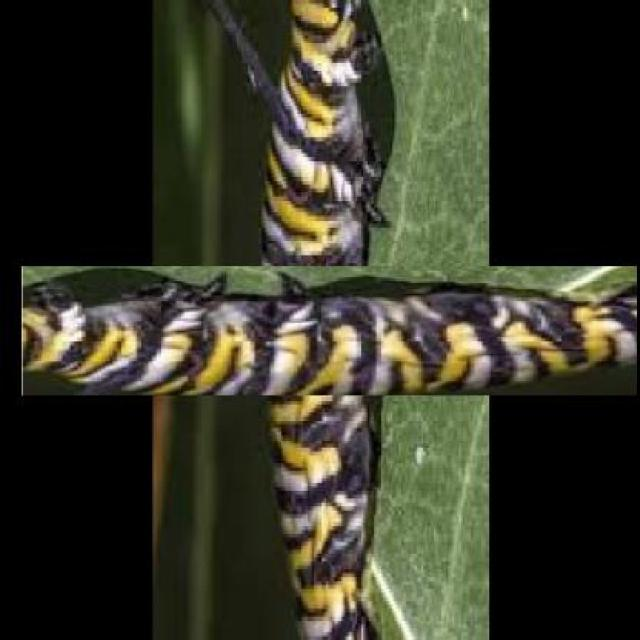Plaga: (143, 146, 519, 520)
